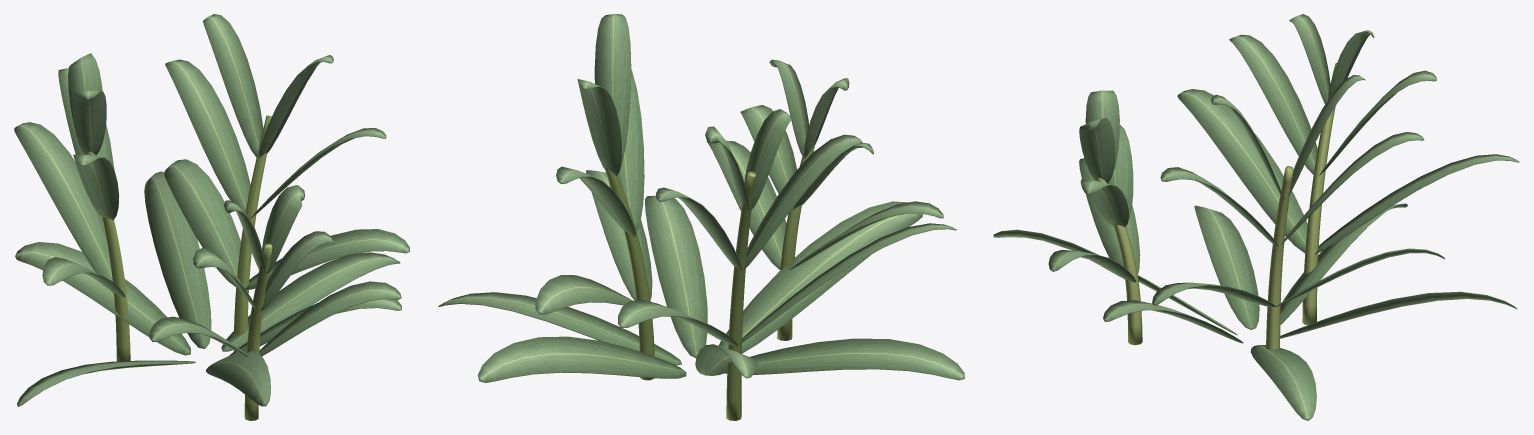
Rendered from NP_Lavender_Young.fbx.
The picture shows the model from 3 angles, left to right: view 1: azimuth 30°, elevation 25°; view 2: azimuth 150°, elevation 25°; view 3: azimuth 270°, elevation 25°; orthographic projection. The views are drawn at different scales.
Visible parts, largest first — view 1: NP_Lavender_Young; view 2: NP_Lavender_Young; view 3: NP_Lavender_Young.
Part boxes in pixels (bbox=[...]): NP_Lavender_Young: bbox=[14, 14, 409, 420]; NP_Lavender_Young: bbox=[438, 14, 964, 420]; NP_Lavender_Young: bbox=[993, 14, 1519, 420].
Bounding box in the file's own units: 34.96 × 23.17 × 36.77.
1 material, 1 textured.
